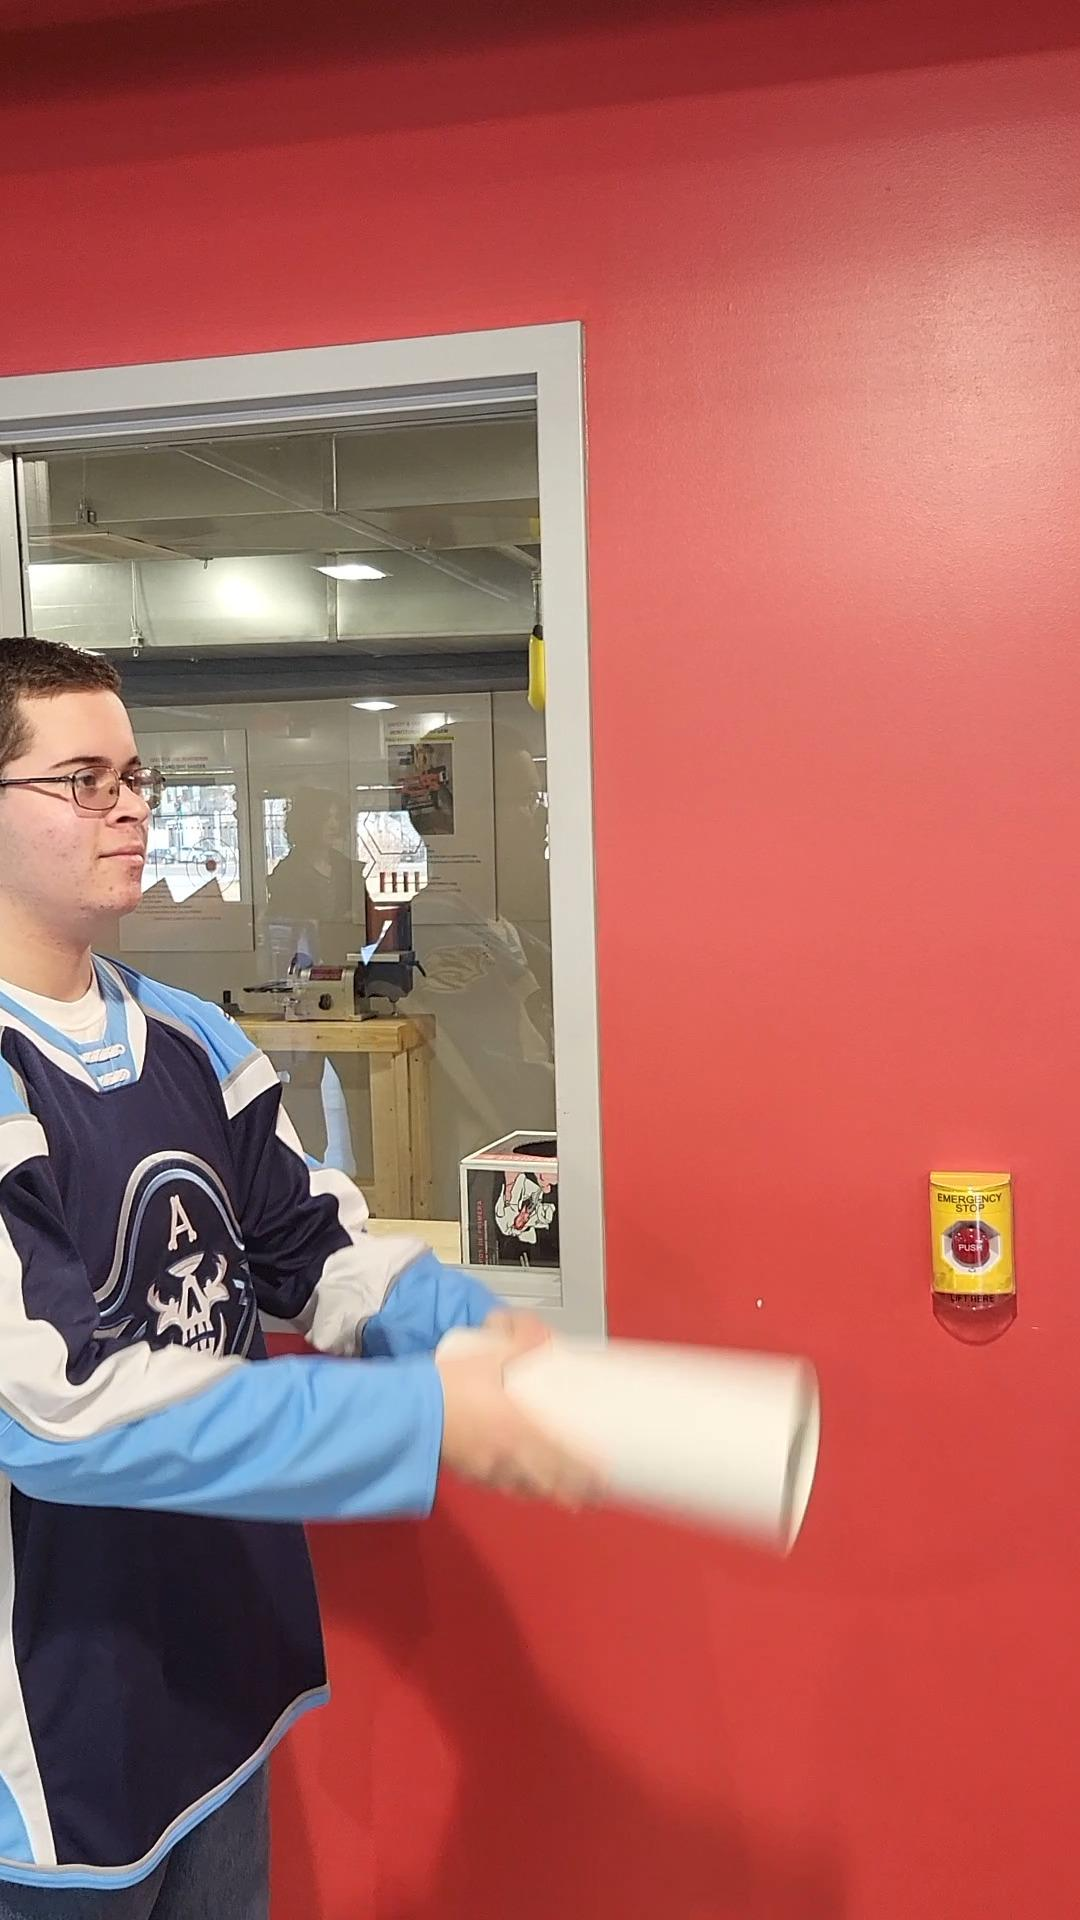coral: (406, 1308, 827, 1560)
